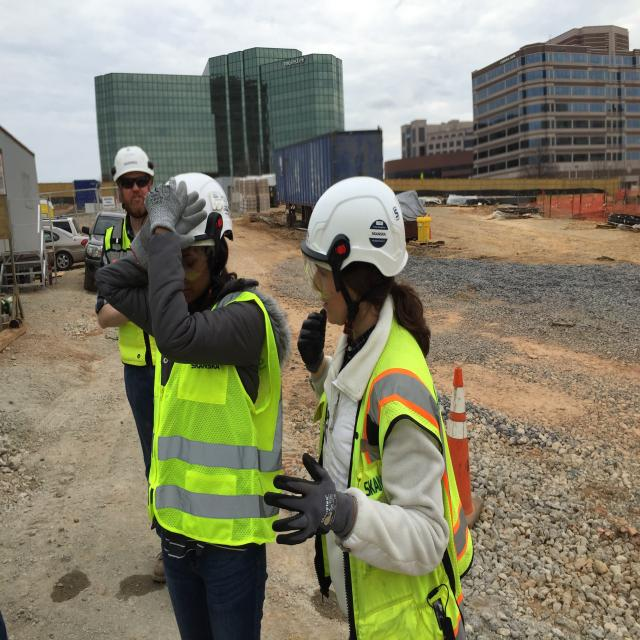Reflective-Jacket: (313, 324, 474, 640), (147, 286, 286, 550), (104, 214, 161, 369)
Safety-Helmet: (300, 171, 410, 284), (170, 168, 236, 248), (108, 142, 156, 182)
